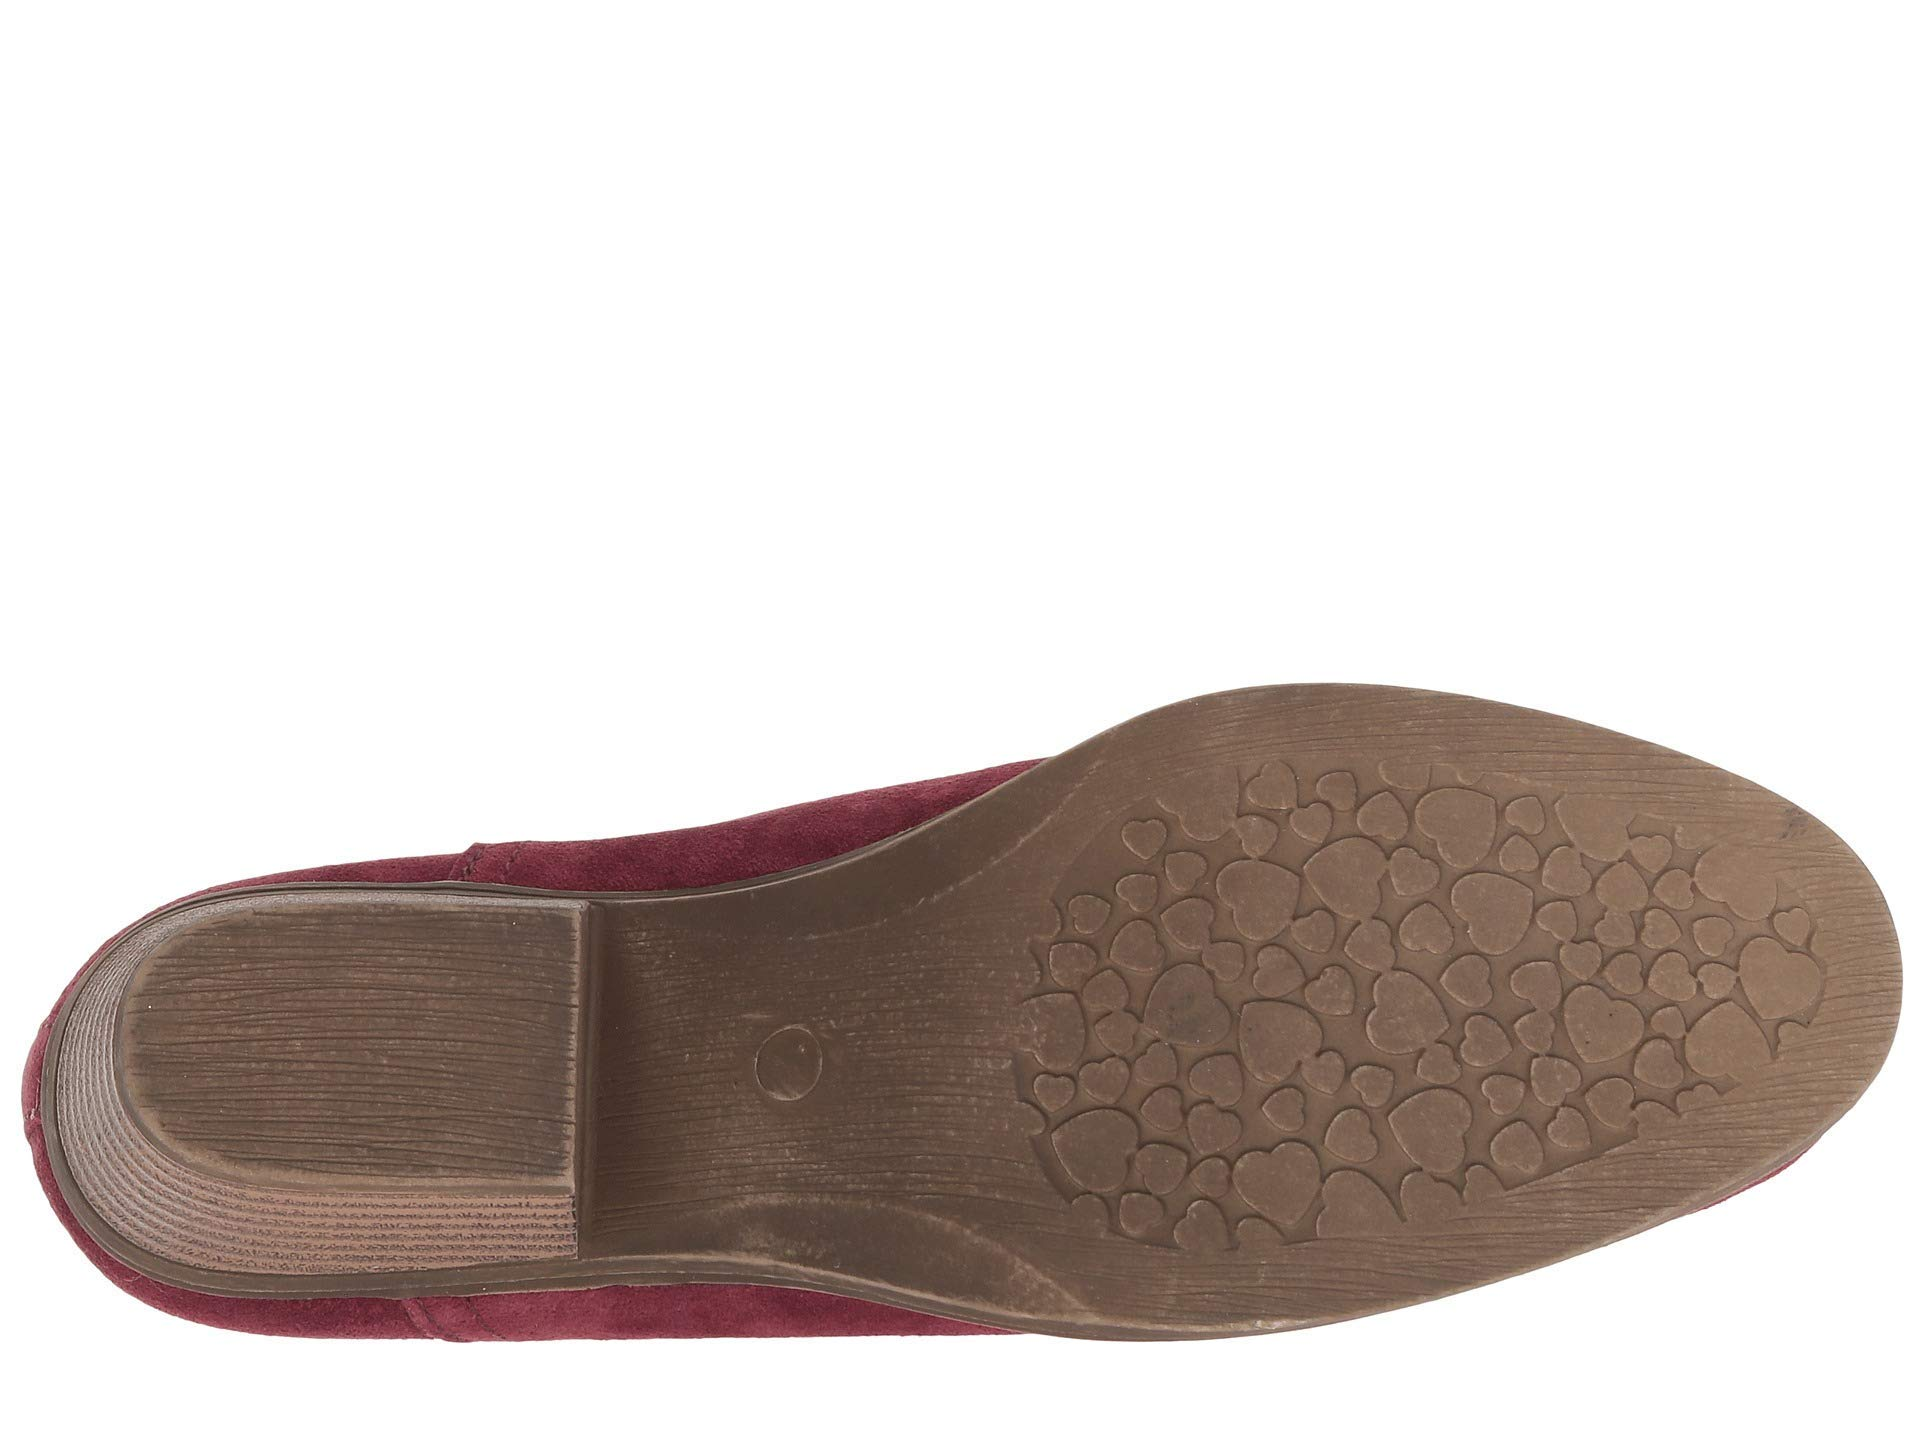circle: (729, 1004, 841, 1115)
line: (150, 920, 573, 1165)
other: (1160, 794, 1717, 1148)
